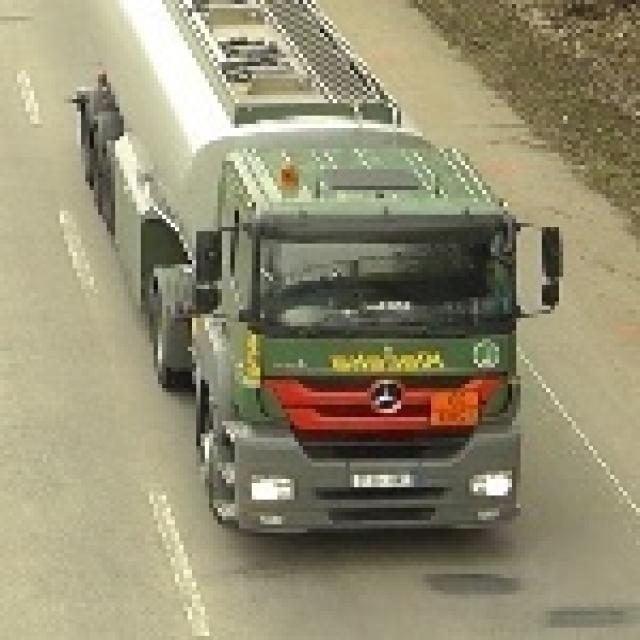truck: (72, 0, 559, 541)
